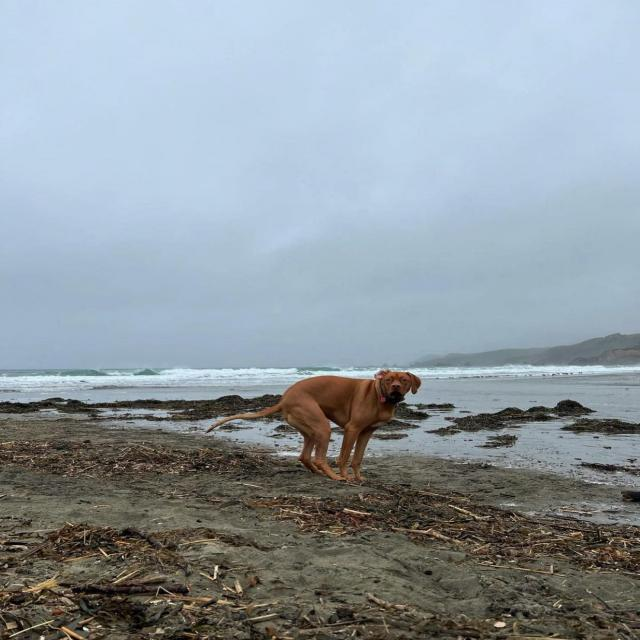squatting: (204, 358, 427, 483)
